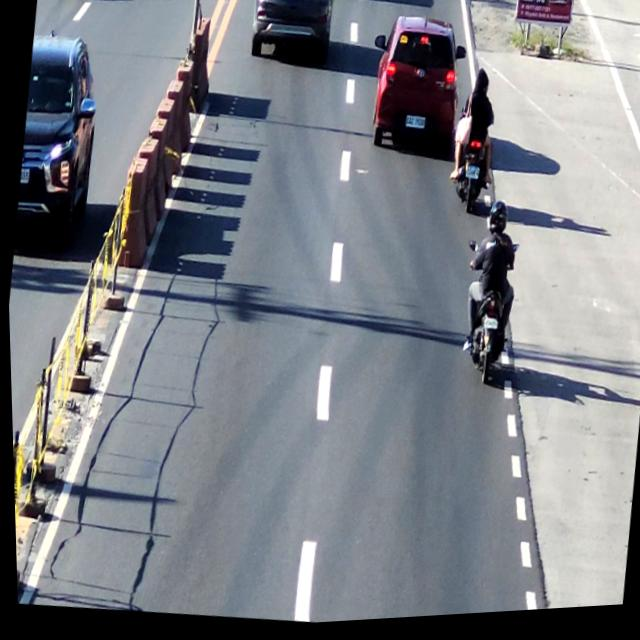Car: (366, 17, 466, 162), (250, 0, 335, 65)
License-Plate: (476, 316, 500, 342), (400, 115, 428, 137), (460, 165, 481, 189), (283, 0, 306, 2)
Motorcycle: (445, 200, 534, 402), (444, 75, 506, 220)
